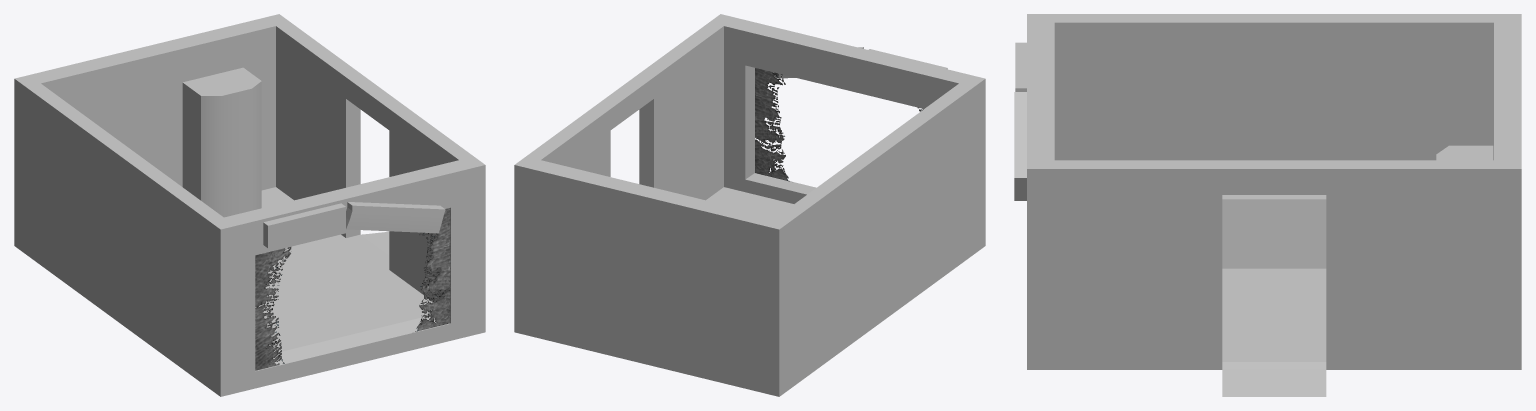
The model's file is shopModel.fbx.
3 renders of one model, left to right at view 1: azimuth 30°, elevation 25°; view 2: azimuth 150°, elevation 25°; view 3: azimuth 270°, elevation 25°, orthographic. The views are drawn at different scales.
Parts seen in each view (by area): view 1: polySurface16, shop_sodaDispenser, brokenGlass, shop_BrokenSign; view 2: polySurface16, brokenGlass; view 3: polySurface16, shop_Counter1, shop_BrokenSign, shop_sodaDispenser.
Boxes of the visible parts, x1,y1,x2,y2 form: polySurface16: [14, 14, 485, 396]; shop_sodaDispenser: [182, 67, 261, 217]; brokenGlass: [255, 208, 450, 370]; shop_BrokenSign: [263, 202, 445, 248]; polySurface16: [514, 14, 985, 396]; brokenGlass: [755, 68, 923, 181]; polySurface16: [1027, 14, 1521, 396]; shop_Counter1: [1222, 195, 1326, 268]; shop_BrokenSign: [1014, 42, 1026, 200]; shop_sodaDispenser: [1436, 145, 1493, 160].
Size of the model in its own units: 14.38 by 7.39 by 16.92.
